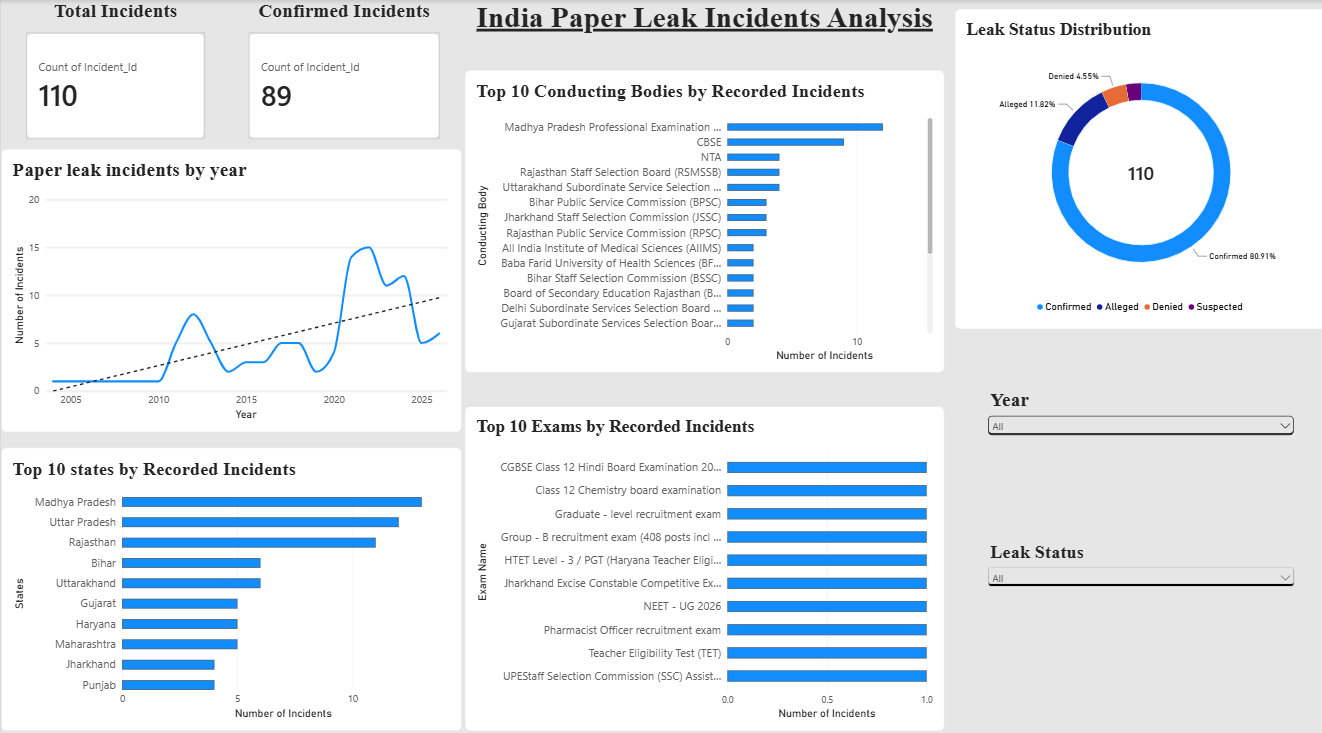

What the dashboard file says about the page in this screenshot:
{"tool":"powerbi","page":{"name":"Page 1","canvas":[1920,1080],"ordinal":0},"visuals":[{"type":"cardVisual","title":"Total Incidents","fields":{"Data":["CountNonNull(paper_leaks-selected-columns.Incident_Id)"]},"box":[36.8,0,259.6,201.8],"z":0},{"type":"cardVisual","title":"Confirmed Incidents","fields":{"Data":["CountNonNull(paper_leaks-selected-columns.Incident_Id)"]},"box":[357.9,0,277.2,201.8],"z":1},{"type":"lineChart","title":"Paper leak incidents by year","fields":{"Category":["paper_leaks-selected-columns.Date.Variation.Date Hierarchy.Year"],"Y":["CountNonNull(paper_leaks-selected-columns.Incident_Id)"]},"box":[0,215.8,667.5,410],"z":2},{"type":"clusteredBarChart","title":"Top 10 states by Recorded Incidents","fields":{"Category":["paper_leaks-selected-columns.Area"],"Y":["CountNonNull(paper_leaks-selected-columns.Incident_Id)"]},"box":[0,647.5,667.5,410],"z":3},{"type":"clusteredBarChart","title":"Top 10 Conducting Bodies by Recorded Incidents","fields":{"Category":["paper_leaks-selected-columns.Conducting_Body"],"Y":["CountNonNull(paper_leaks-selected-columns.Incident_Id)"]},"box":[671.9,101.8,694.7,438.6],"z":4},{"type":"donutChart","title":"Leak Status Distribution","fields":{"Category":["paper_leaks-selected-columns.Leak_Status"],"Y":["CountNonNull(paper_leaks-selected-columns.Incident_Id)"]},"box":[1380.7,12.3,540,464],"z":5},{"type":"clusteredBarChart","title":"Top 10 Exams by Recorded Incidents","fields":{"Category":["paper_leaks-selected-columns.Exam_Name"],"Y":["CountNonNull(paper_leaks-selected-columns.Incident_Id)"]},"box":[671.9,587.7,694.7,470.2],"z":6},{"type":"slicer","fields":{"Values":["paper_leaks-selected-columns.Date.Variation.Date Hierarchy.Year"]},"box":[1424.6,563.2,452.5,167.5],"z":7},{"type":"slicer","fields":{"Values":["paper_leaks-selected-columns.Leak_Status"]},"box":[1424.6,784.2,453,205],"z":8},{"type":"textbox","box":[671.9,0,694.7,101.8],"z":9}]}

Visuals, with their boxes in screenshot pixels (x1, y1, x2, y2), scaled from the page's 1920x1080 canvas onto the 1322x733 screenshot:
"Total Incidents" cardVisual: (x1=25, y1=0, x2=204, y2=137)
"Confirmed Incidents" cardVisual: (x1=246, y1=0, x2=437, y2=137)
"Paper leak incidents by year" lineChart: (x1=0, y1=146, x2=460, y2=425)
"Top 10 states by Recorded Incidents" clusteredBarChart: (x1=0, y1=439, x2=460, y2=718)
"Top 10 Conducting Bodies by Recorded Incidents" clusteredBarChart: (x1=463, y1=69, x2=941, y2=367)
"Leak Status Distribution" donutChart: (x1=951, y1=8, x2=1321, y2=323)
"Top 10 Exams by Recorded Incidents" clusteredBarChart: (x1=463, y1=399, x2=941, y2=718)
slicer - paper_leaks-selected-columns.Date.Variation.Date Hierarchy.Year: (x1=981, y1=382, x2=1292, y2=496)
slicer - paper_leaks-selected-columns.Leak_Status: (x1=981, y1=532, x2=1293, y2=671)
textbox: (x1=463, y1=0, x2=941, y2=69)
